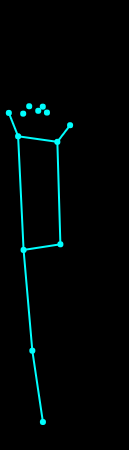tree: (1, 100, 86, 426)
